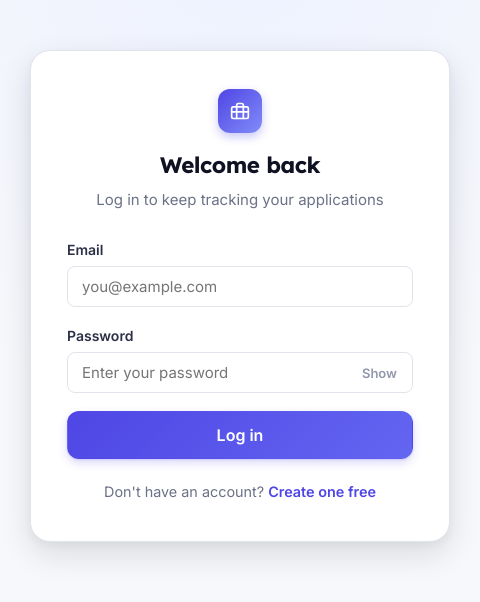
Test: Login form validation › shows validation errors when submitting an empty form
Click the button "Log in": click(240, 435) [67,411,413,459]
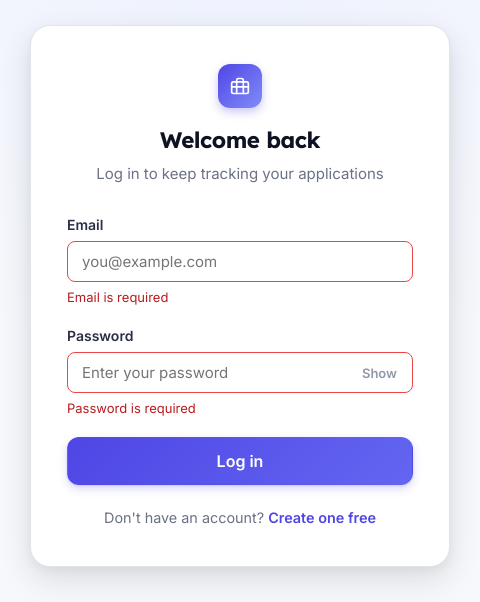
Expected: the text "Email is required" is shown, [67,289,168,305]
Expected: the text "Password is required" is shown, [67,400,196,416]
